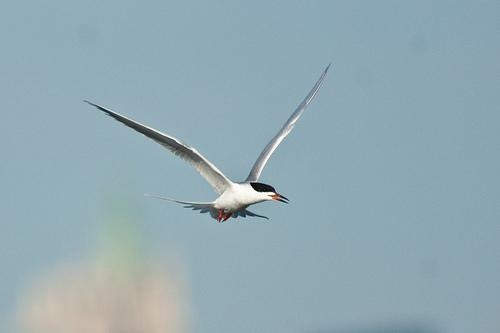bird: (81, 62, 334, 223)
